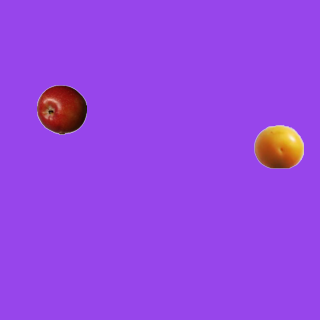Apple Braeburn: (36, 84, 86, 134)
Cherry Wax Yellow: (253, 121, 303, 171)
